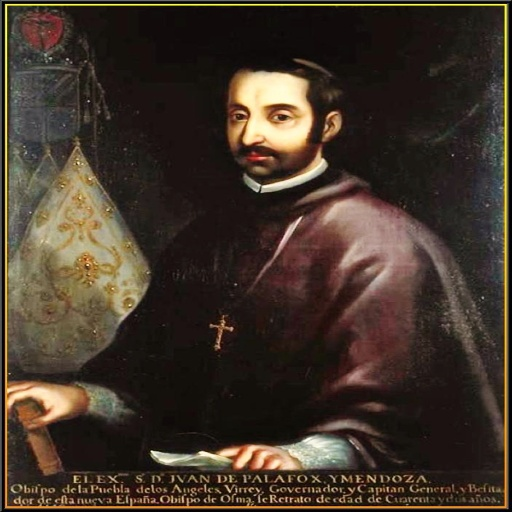hand: (7, 379, 93, 431), (220, 438, 301, 479)
